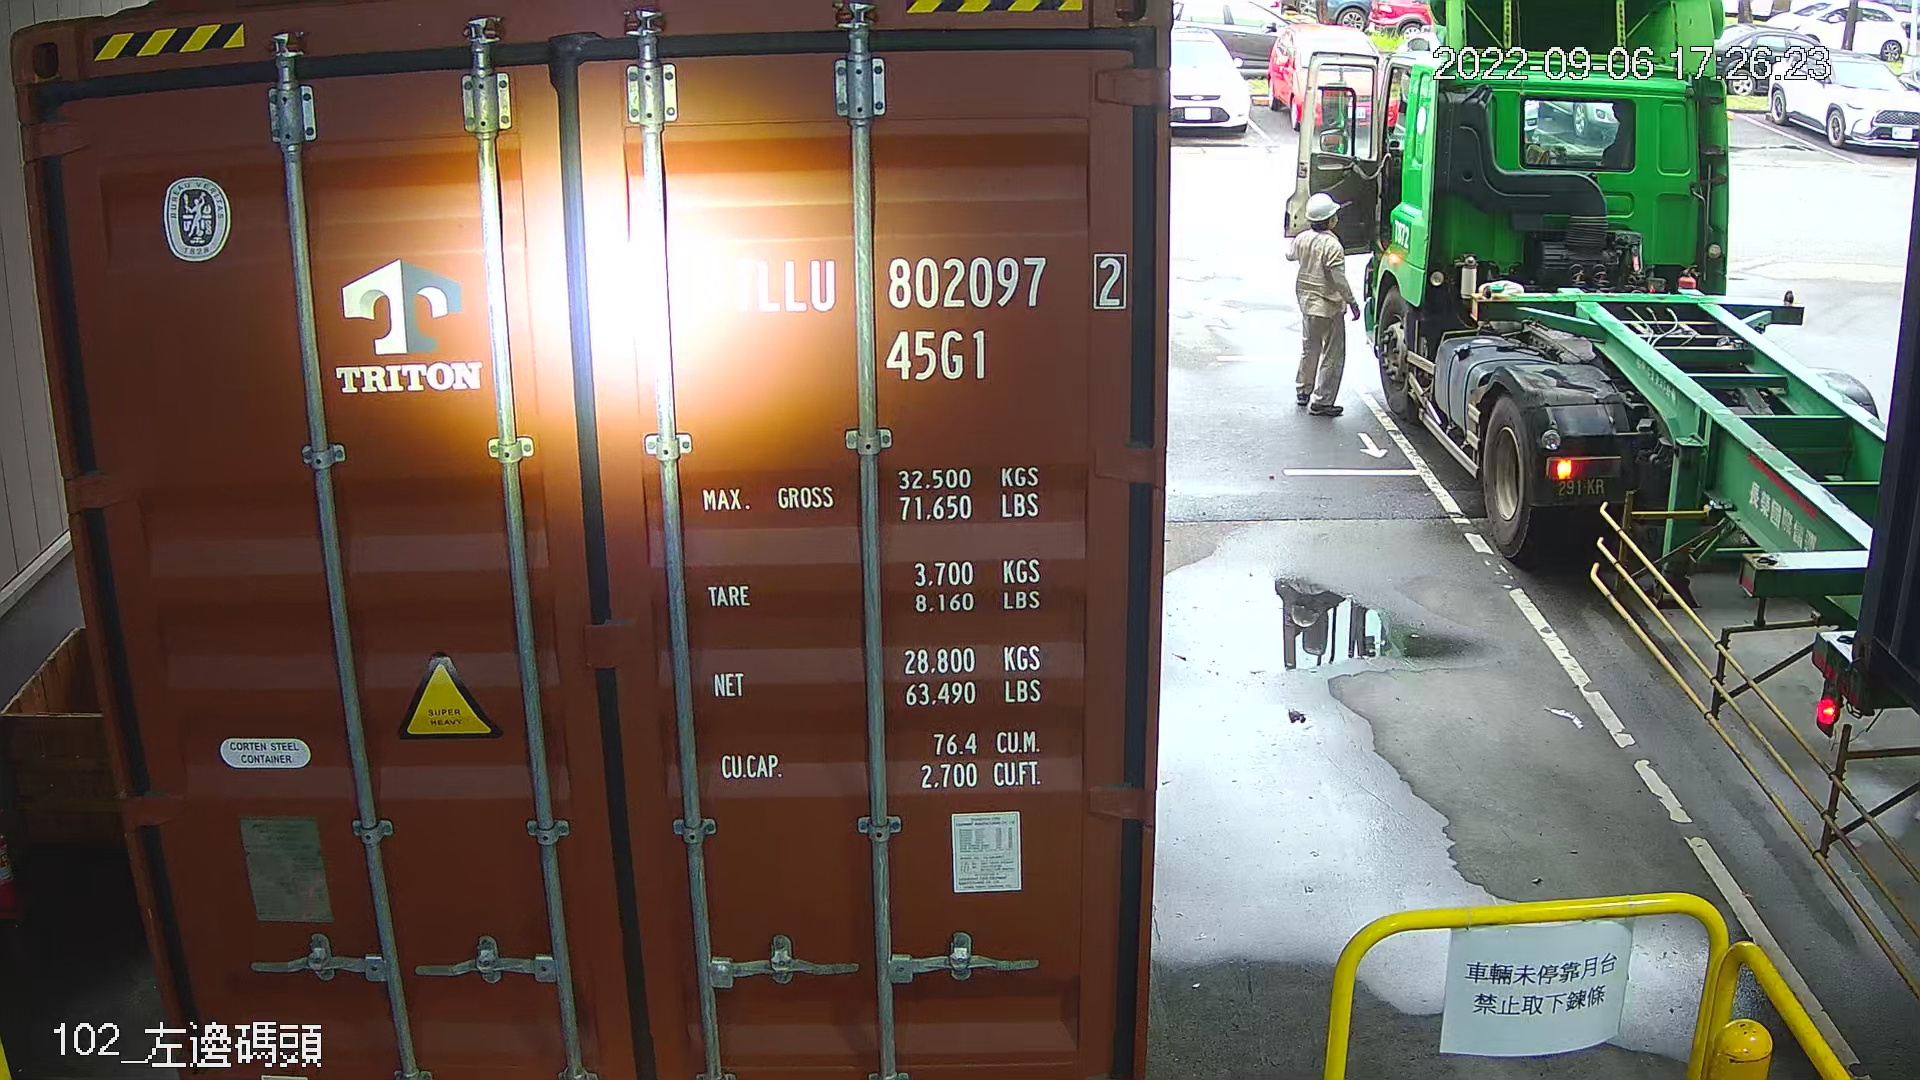container: (720, 244, 1142, 398)
